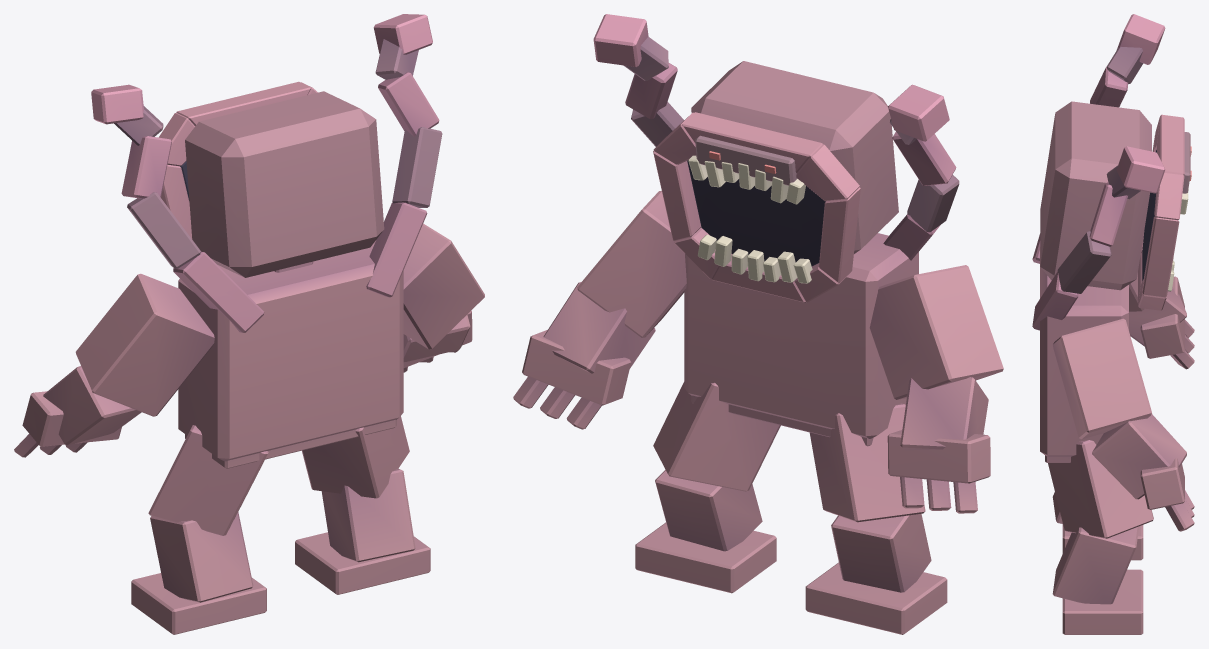
Rendered from Parasite_LightCandidate.glb.
3 views of the same model, side by side, from view 1: azimuth 30°, elevation 25°; view 2: azimuth 150°, elevation 25°; view 3: azimuth 270°, elevation 25° (orthographic). The views are drawn at different scales.
Visible parts, largest first — view 1: Body, Head, ArmL, LegL, LegR, TendrilR, TendrilL, ArmR; view 2: Head, Body, ArmL, LegR, ArmR, LegL, TendrilL, TendrilR; view 3: Head, ArmR, LegR, TendrilR, Body, ArmL, TendrilL, LegL.
Boxes of the visible parts, left/top/right/bottom form: Body: left=178, top=243, right=403, bottom=468; Head: left=158, top=81, right=384, bottom=277; ArmL: left=14, top=273, right=214, bottom=457; LegL: left=131, top=425, right=268, bottom=634; LegR: left=295, top=416, right=430, bottom=594; TendrilR: left=366, top=14, right=442, bottom=297; TendrilL: left=91, top=84, right=264, bottom=332; ArmR: left=374, top=223, right=484, bottom=372; Head: left=653, top=61, right=898, bottom=302; Body: left=684, top=233, right=918, bottom=446; ArmL: left=869, top=265, right=1003, bottom=513; LegR: left=635, top=382, right=780, bottom=593; ArmR: left=513, top=191, right=686, bottom=429; LegL: left=805, top=403, right=947, bottom=634; TendrilL: left=883, top=84, right=959, bottom=260; TendrilR: left=593, top=14, right=683, bottom=146; Head: left=1040, top=101, right=1190, bottom=310; ArmR: left=1053, top=318, right=1194, bottom=531; LegR: left=1048, top=440, right=1153, bottom=634; TendrilR: left=1032, top=146, right=1165, bottom=330; Body: left=1040, top=247, right=1128, bottom=462; ArmL: left=1129, top=273, right=1194, bottom=369; TendrilL: left=1032, top=14, right=1165, bottom=263; LegL: left=1052, top=492, right=1143, bottom=560.
Bounding box in the file's own units: 5.68 × 6.37 × 1.91.
